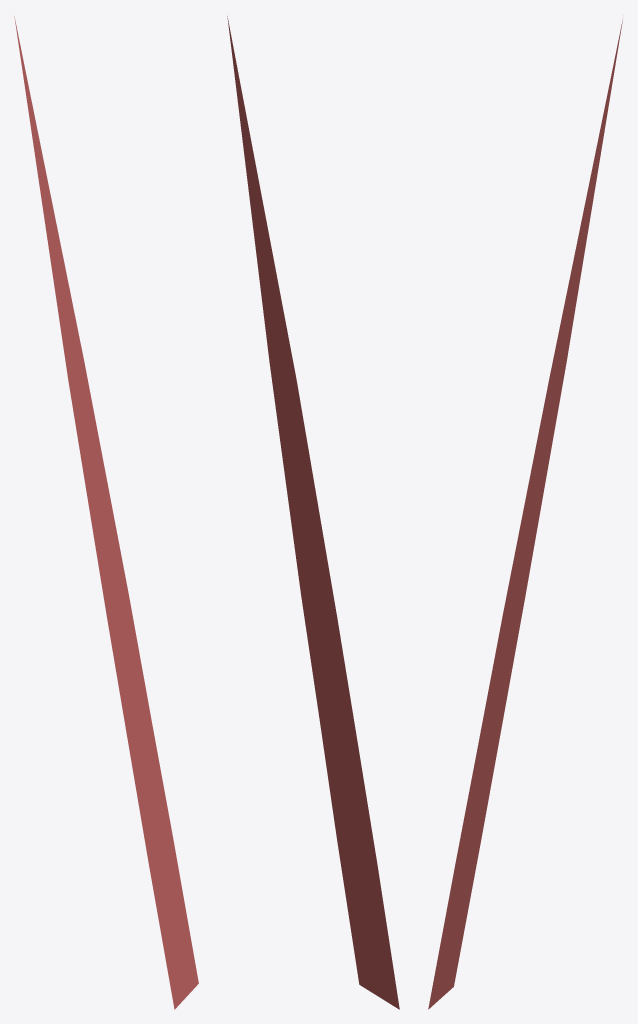
The model's file is Grass Blade Bark 1.fbx.
3 renders of one model, left to right at view 1: azimuth 90°, elevation 25°; view 2: azimuth 150°, elevation 25°; view 3: azimuth 270°, elevation 25°, orthographic. The views are drawn at different scales.
Visible parts, largest first — view 1: GRASS BLADE MINE7a; view 2: GRASS BLADE MINE7a; view 3: GRASS BLADE MINE7a.
Boxes of the visible parts, <box> form: GRASS BLADE MINE7a: <box>14,16,198,1009</box>; GRASS BLADE MINE7a: <box>227,16,399,1009</box>; GRASS BLADE MINE7a: <box>428,17,623,1009</box>.
Size of the model in its own units: 0.6215 by 7.2 by 1.26.
